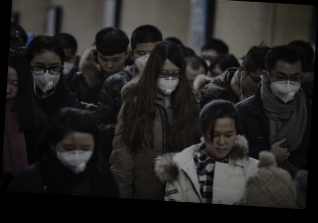with_mask: (55, 140, 95, 175), (268, 67, 301, 102), (29, 59, 61, 92), (155, 65, 181, 94), (132, 46, 153, 71), (61, 52, 76, 76)
without_mask: (203, 126, 237, 158), (96, 51, 126, 74), (239, 72, 262, 97), (6, 74, 19, 106)
